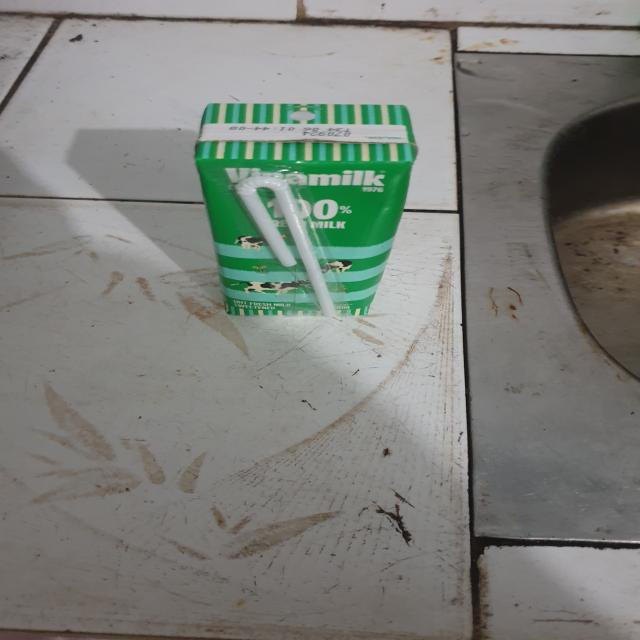Vina: (198, 98, 416, 322)
